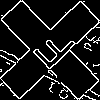F: (25, 25, 79, 79)
